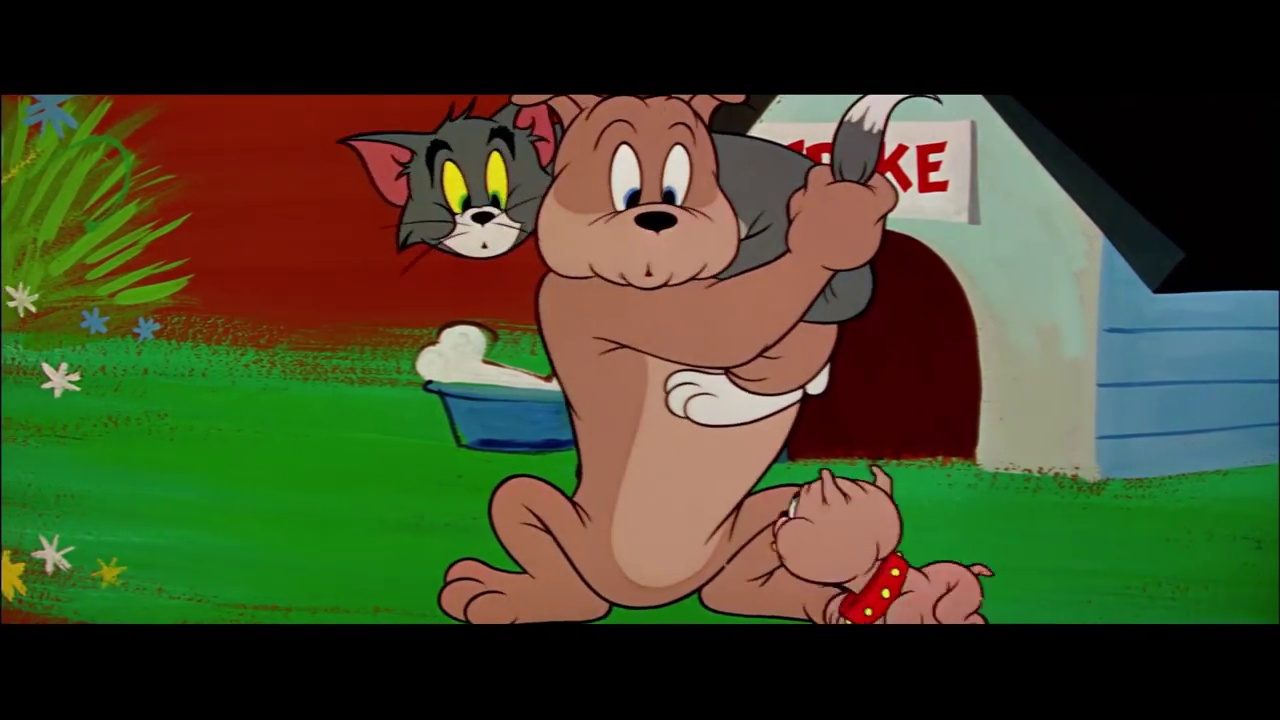spike: (511, 90, 746, 292)
tom: (333, 95, 556, 258)
